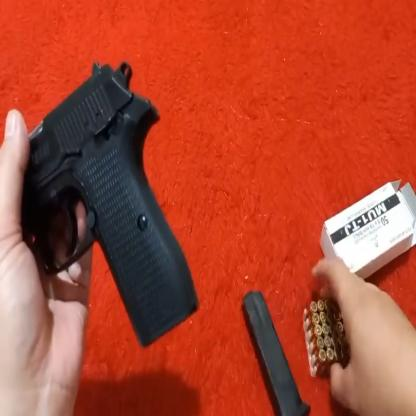handgun: (6, 40, 204, 356)
